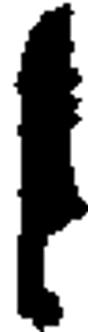Reed: (8, 3, 88, 330)
